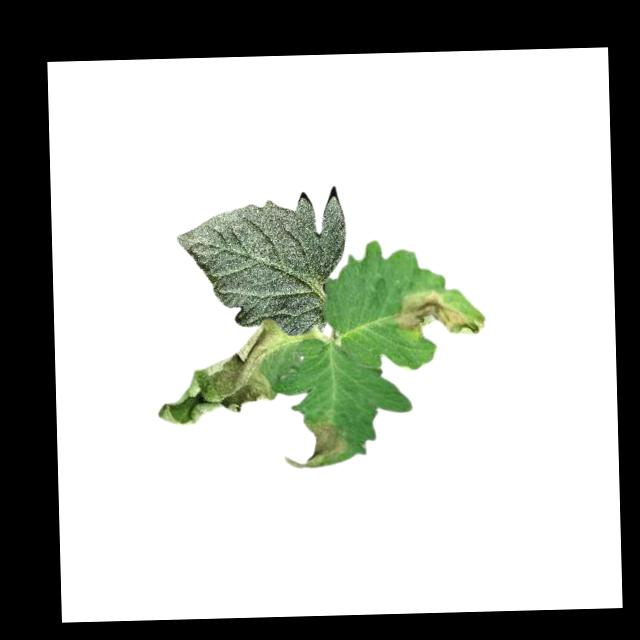Late_blight: (154, 315, 317, 427), (390, 284, 487, 336), (282, 421, 348, 469)
